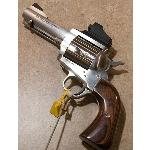Pistol: (17, 5, 126, 148)
